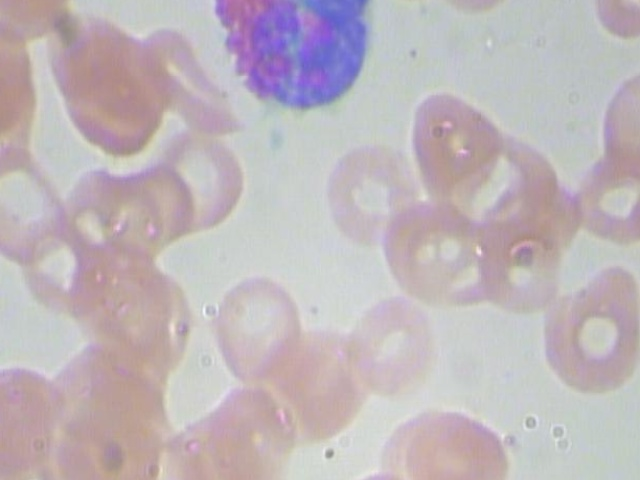RBC: (45, 4, 173, 156), (248, 310, 378, 450), (393, 72, 507, 213), (130, 23, 254, 145), (542, 257, 640, 398), (334, 287, 444, 404), (203, 267, 313, 383), (373, 189, 483, 305), (141, 128, 251, 242), (6, 197, 98, 316), (324, 139, 422, 248), (0, 348, 78, 480), (397, 402, 521, 480), (0, 143, 78, 263), (475, 214, 563, 314), (581, 49, 640, 186), (568, 148, 640, 248), (126, 159, 195, 243), (0, 0, 78, 58), (424, 0, 532, 17), (370, 0, 455, 8)
WBC: (205, 0, 390, 122)
